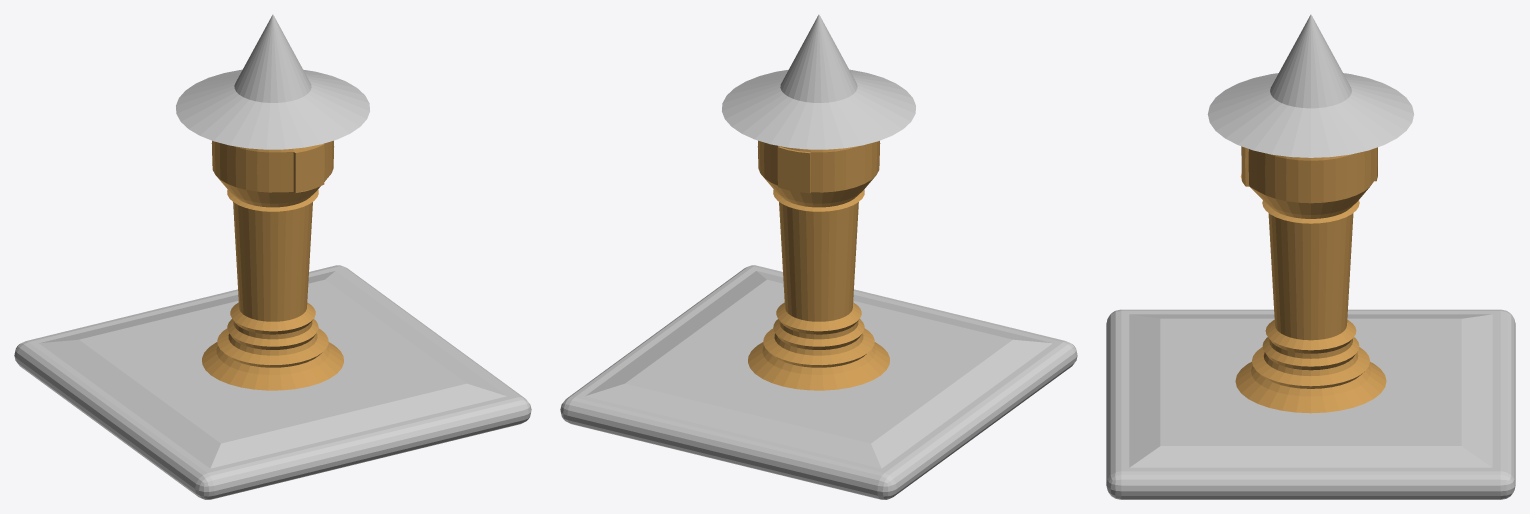
The model's file is wizardtower2.obj.
The picture shows the model from 3 angles, left to right: view 1: azimuth 30°, elevation 25°; view 2: azimuth 150°, elevation 25°; view 3: azimuth 270°, elevation 25°; orthographic projection. The views are drawn at different scales.
Visible parts, largest first — view 1: Alap_fent, Test, Alap_lent, Tető_lent, Tető_fent; view 2: Alap_fent, Test, Alap_lent, Tető_lent, Tető_fent; view 3: Alap_fent, Test, Alap_lent, Tető_lent, Tető_fent.
Boxes of the visible parts, bbox=[...] form: Alap_fent: bbox=[39, 271, 506, 468]; Test: bbox=[202, 140, 343, 390]; Alap_lent: bbox=[14, 265, 531, 499]; Tető_lent: bbox=[176, 69, 369, 149]; Tető_fent: bbox=[234, 14, 311, 102]; Alap_fent: bbox=[585, 271, 1052, 468]; Test: bbox=[748, 140, 889, 390]; Alap_lent: bbox=[560, 265, 1077, 499]; Tető_lent: bbox=[722, 69, 915, 149]; Tető_fent: bbox=[780, 14, 857, 102]; Alap_fent: bbox=[1129, 314, 1492, 467]; Test: bbox=[1235, 146, 1386, 413]; Alap_lent: bbox=[1106, 309, 1515, 499]; Tető_lent: bbox=[1207, 73, 1414, 157]; Tető_fent: bbox=[1270, 14, 1351, 108].
Size of the model in its own units: 4.11 by 4.48 by 4.11.
